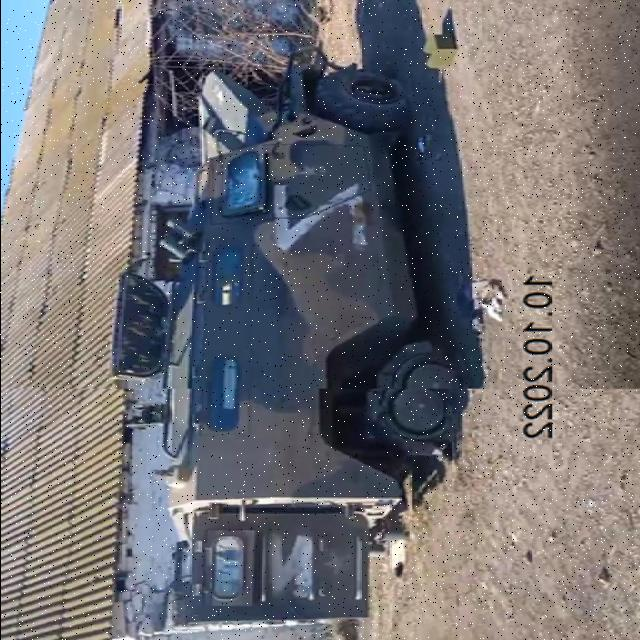CAR: (128, 64, 444, 556)
